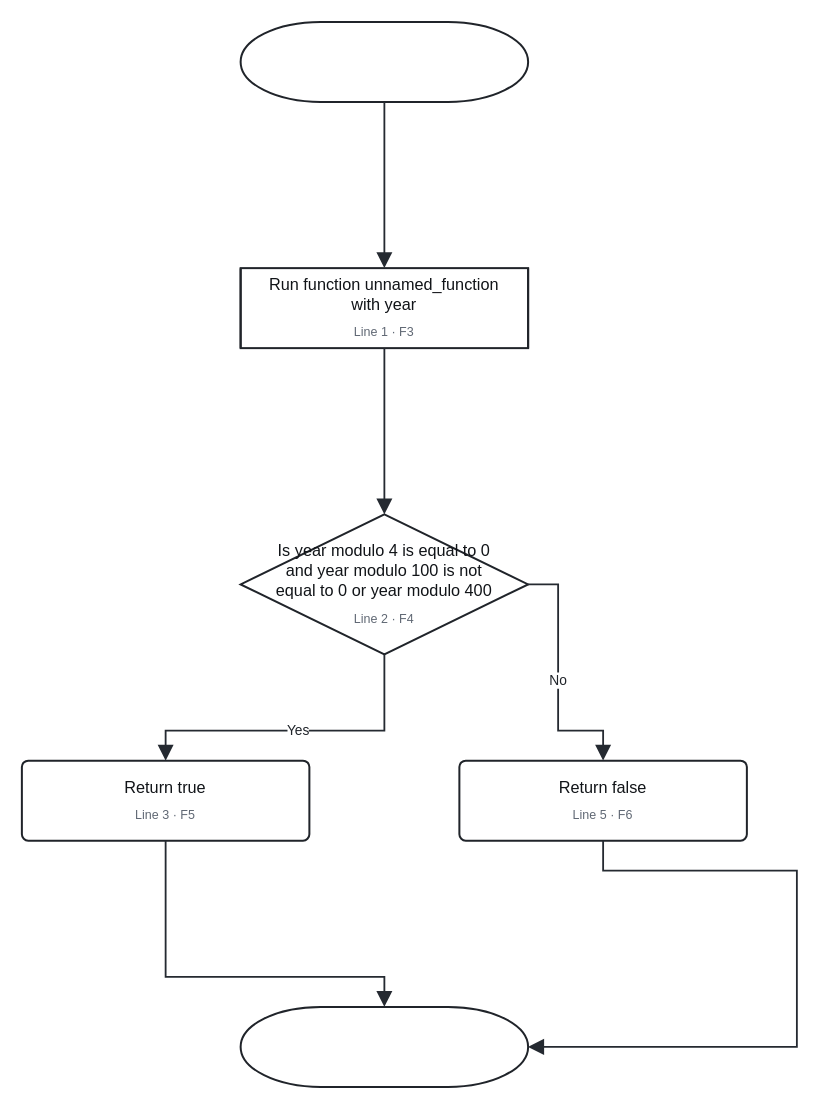
Image size: 834x1110. Some labels were removed from this diagram. The shapes that lost their labels are listed below. From the top down, each one's box as (x1, y1, x2, y2) in pixels, then its label:
(239, 20, 528, 102): Start Line 1 · F1
(239, 1005, 528, 1087): End Line 1 · F2
